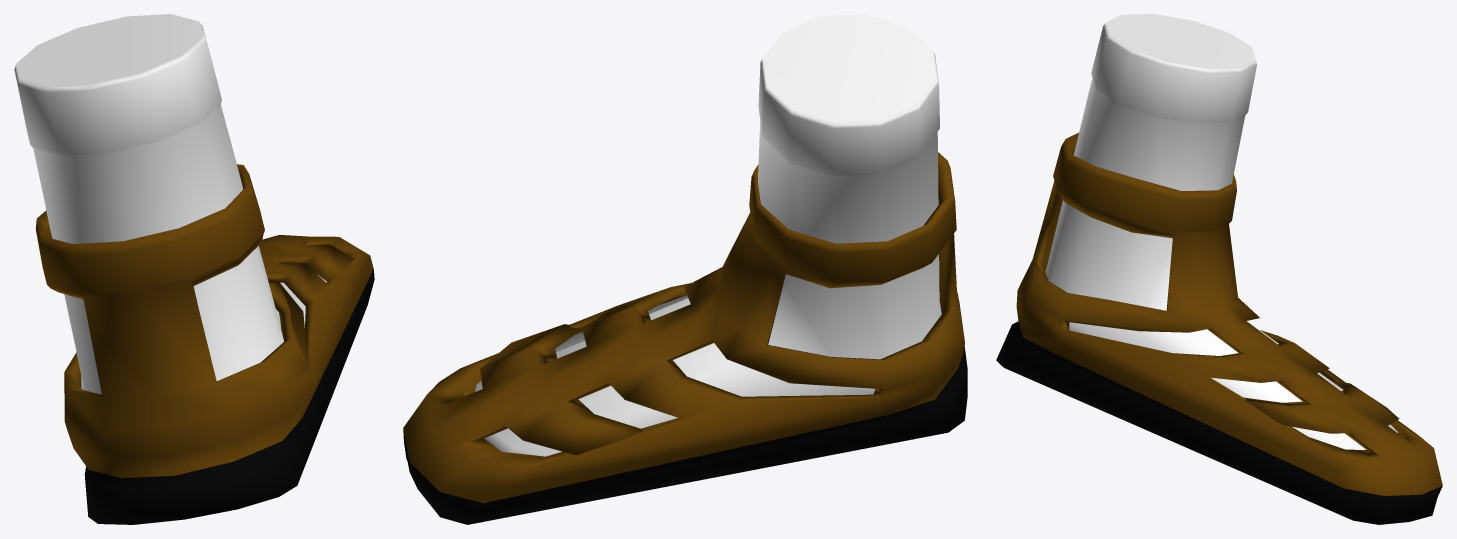
File: slape sa carapama.fbx
3 views of the same model, side by side, from view 1: azimuth 30°, elevation 25°; view 2: azimuth 150°, elevation 25°; view 3: azimuth 270°, elevation 25° (orthographic). The views are drawn at different scales.
Visible parts, largest first — view 1: Slape sa carapama; view 2: Slape sa carapama; view 3: Slape sa carapama.
Part boxes in pixels (x1,y1,x2,y2): Slape sa carapama: (14, 14, 374, 524); Slape sa carapama: (403, 14, 967, 524); Slape sa carapama: (996, 14, 1442, 524).
Bounding box in the file's own units: 916 × 918 × 979.
